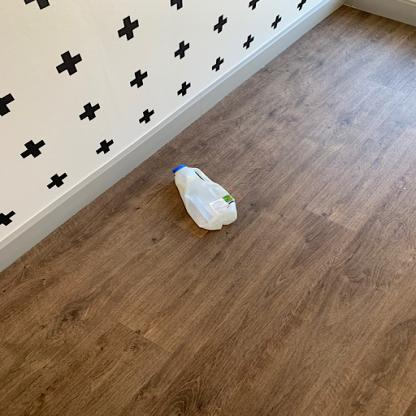trash: (172, 162, 240, 230)
